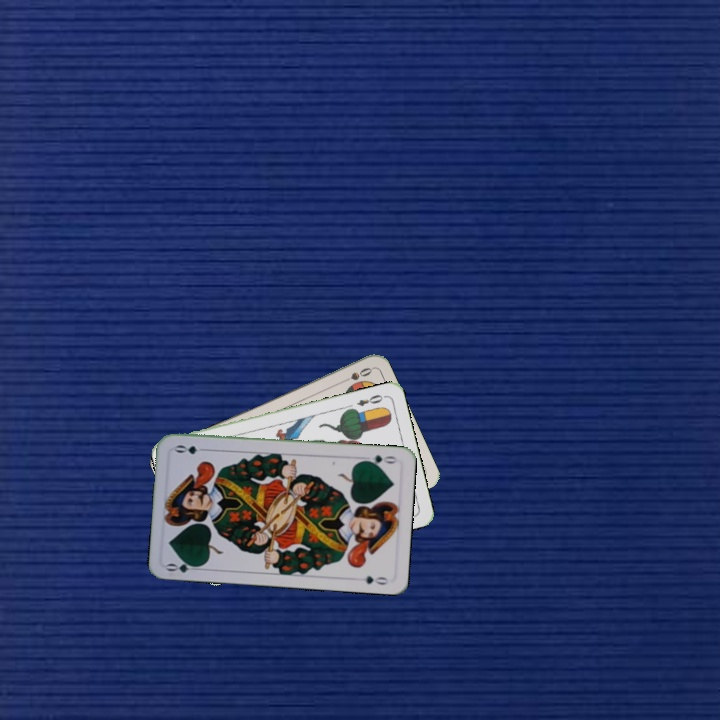EO: (353, 390, 388, 409)
GO: (163, 556, 204, 575), (359, 451, 399, 468)
SO: (336, 363, 375, 387)
